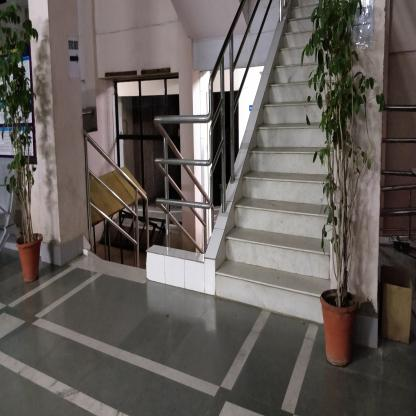stairs: (282, 58, 319, 326)
